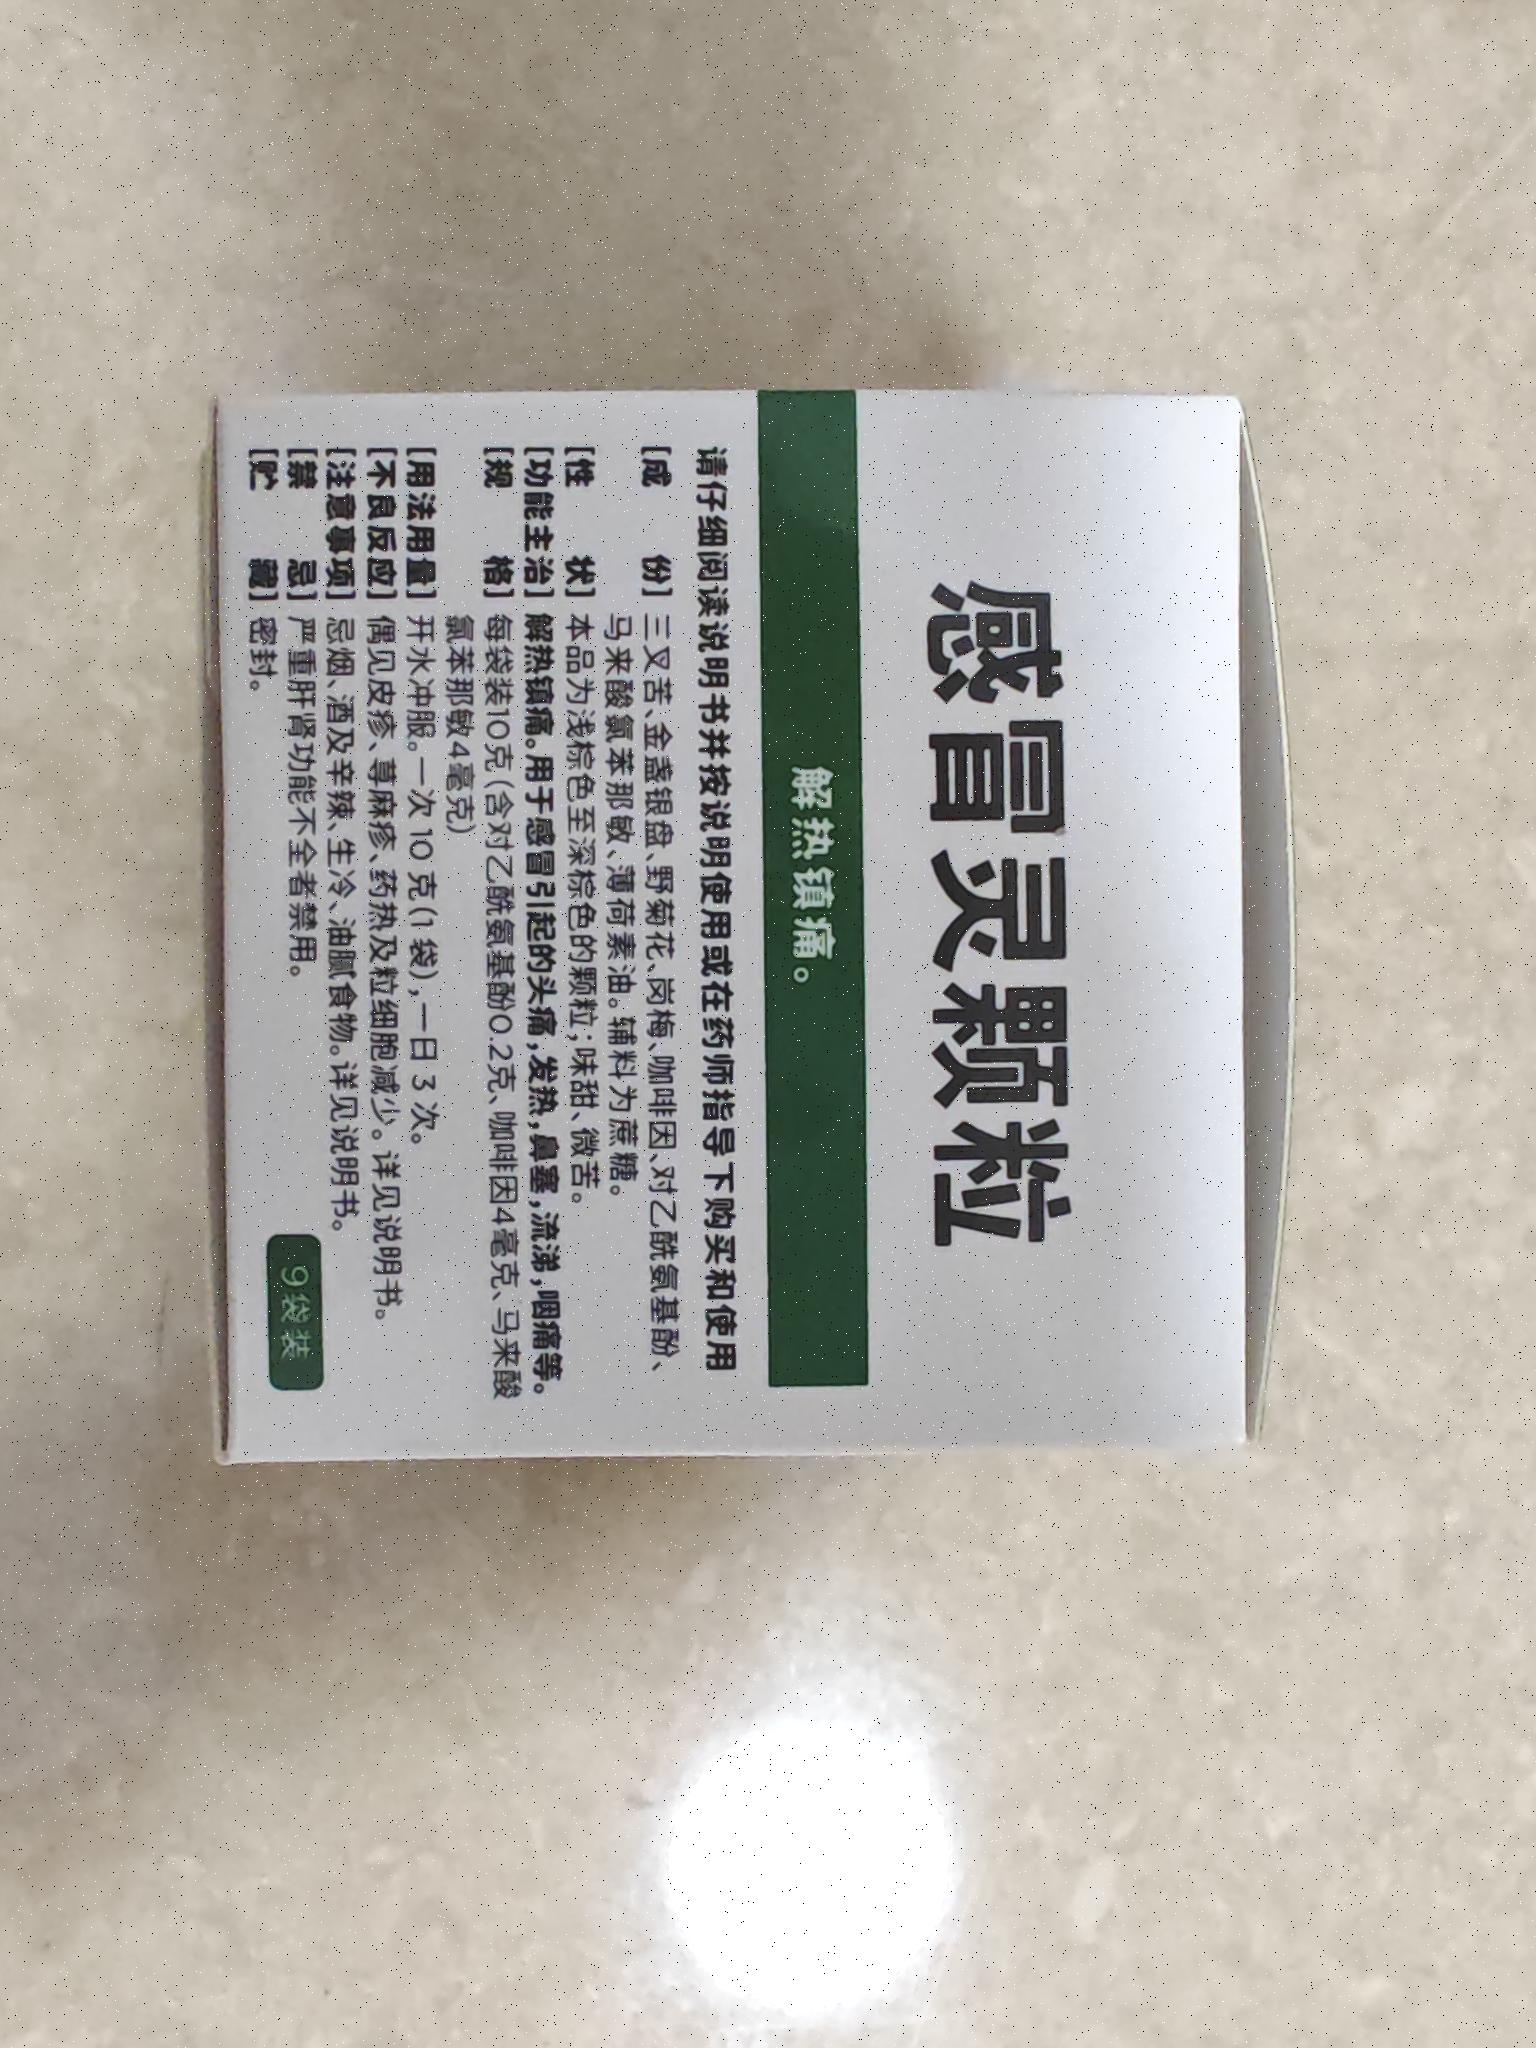Medicine3: (186, 360, 1317, 1505)
